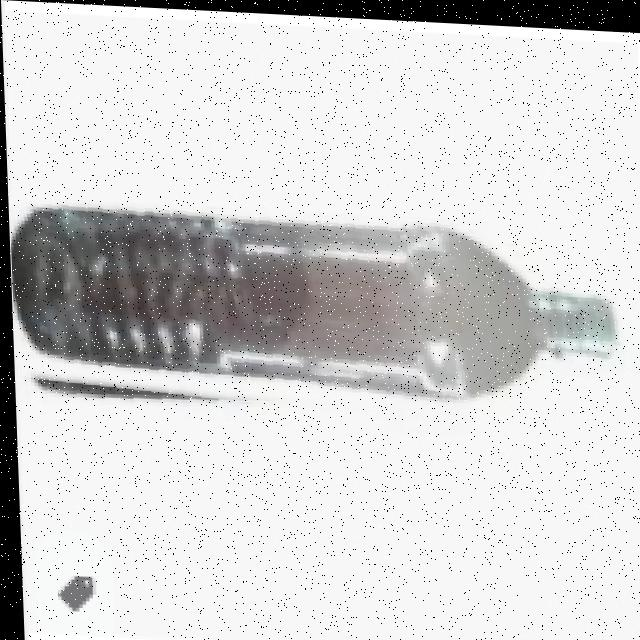plasticbottle: (7, 196, 640, 440)
plasticbottlecap: (519, 260, 640, 396)
